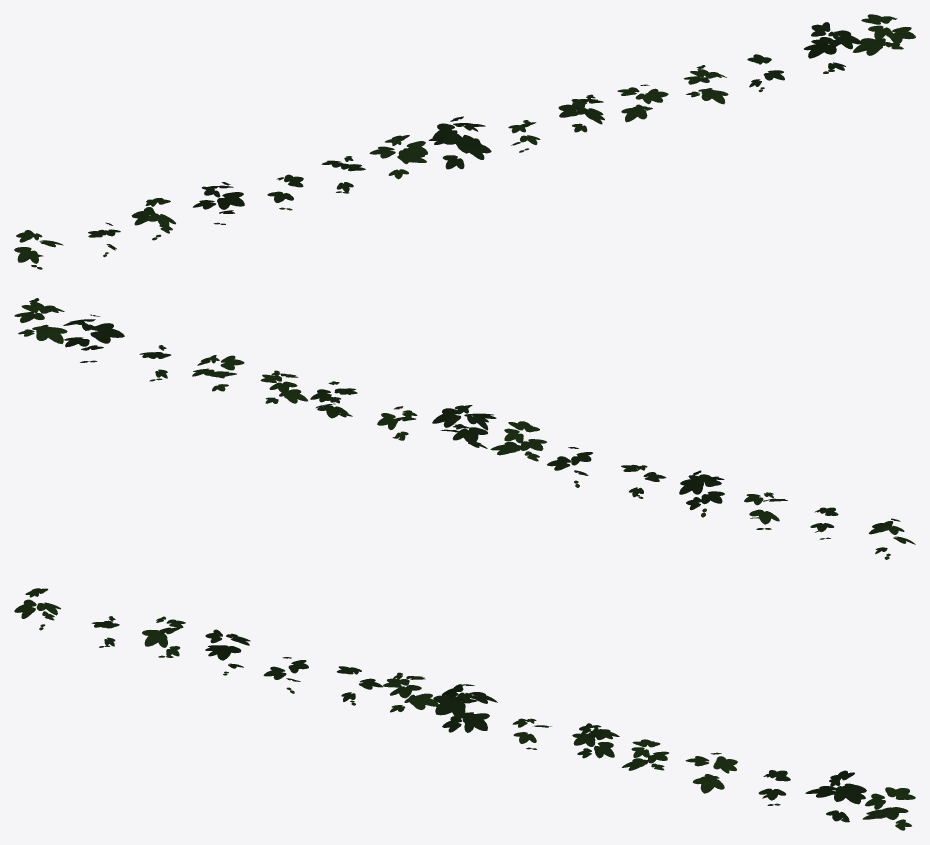
The model's file is ROW_02_SEG2_foliage.dae.
3 renders of one model, top to bottom at view 1: azimuth 30°, elevation 25°; view 2: azimuth 150°, elevation 25°; view 3: azimuth 330°, elevation 25°, orthographic.
Visible parts, largest first — view 1: ROW_02_SEG2_foliage; view 2: ROW_02_SEG2_foliage; view 3: ROW_02_SEG2_foliage.
Boxes of the visible parts, <box> form: ROW_02_SEG2_foliage: <box>14,14,915,269</box>; ROW_02_SEG2_foliage: <box>14,298,915,559</box>; ROW_02_SEG2_foliage: <box>14,588,915,830</box>.
Size of the model in its own units: 4.49 by 0.3013 by 0.2342.
